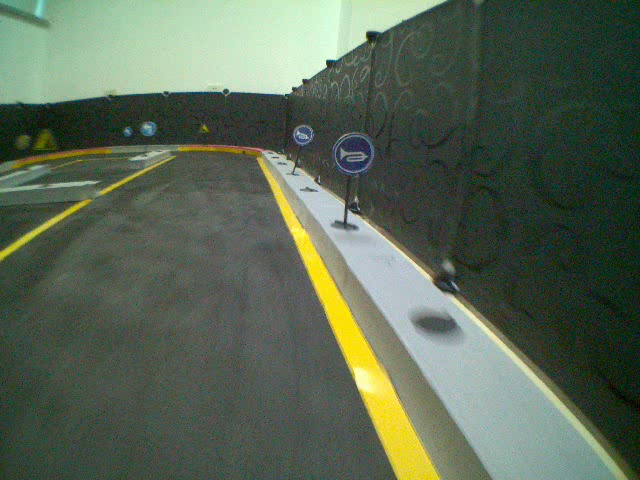fast: (31, 128, 59, 154)
horn: (331, 132, 376, 175), (292, 124, 314, 146)
turn: (141, 120, 156, 136)
